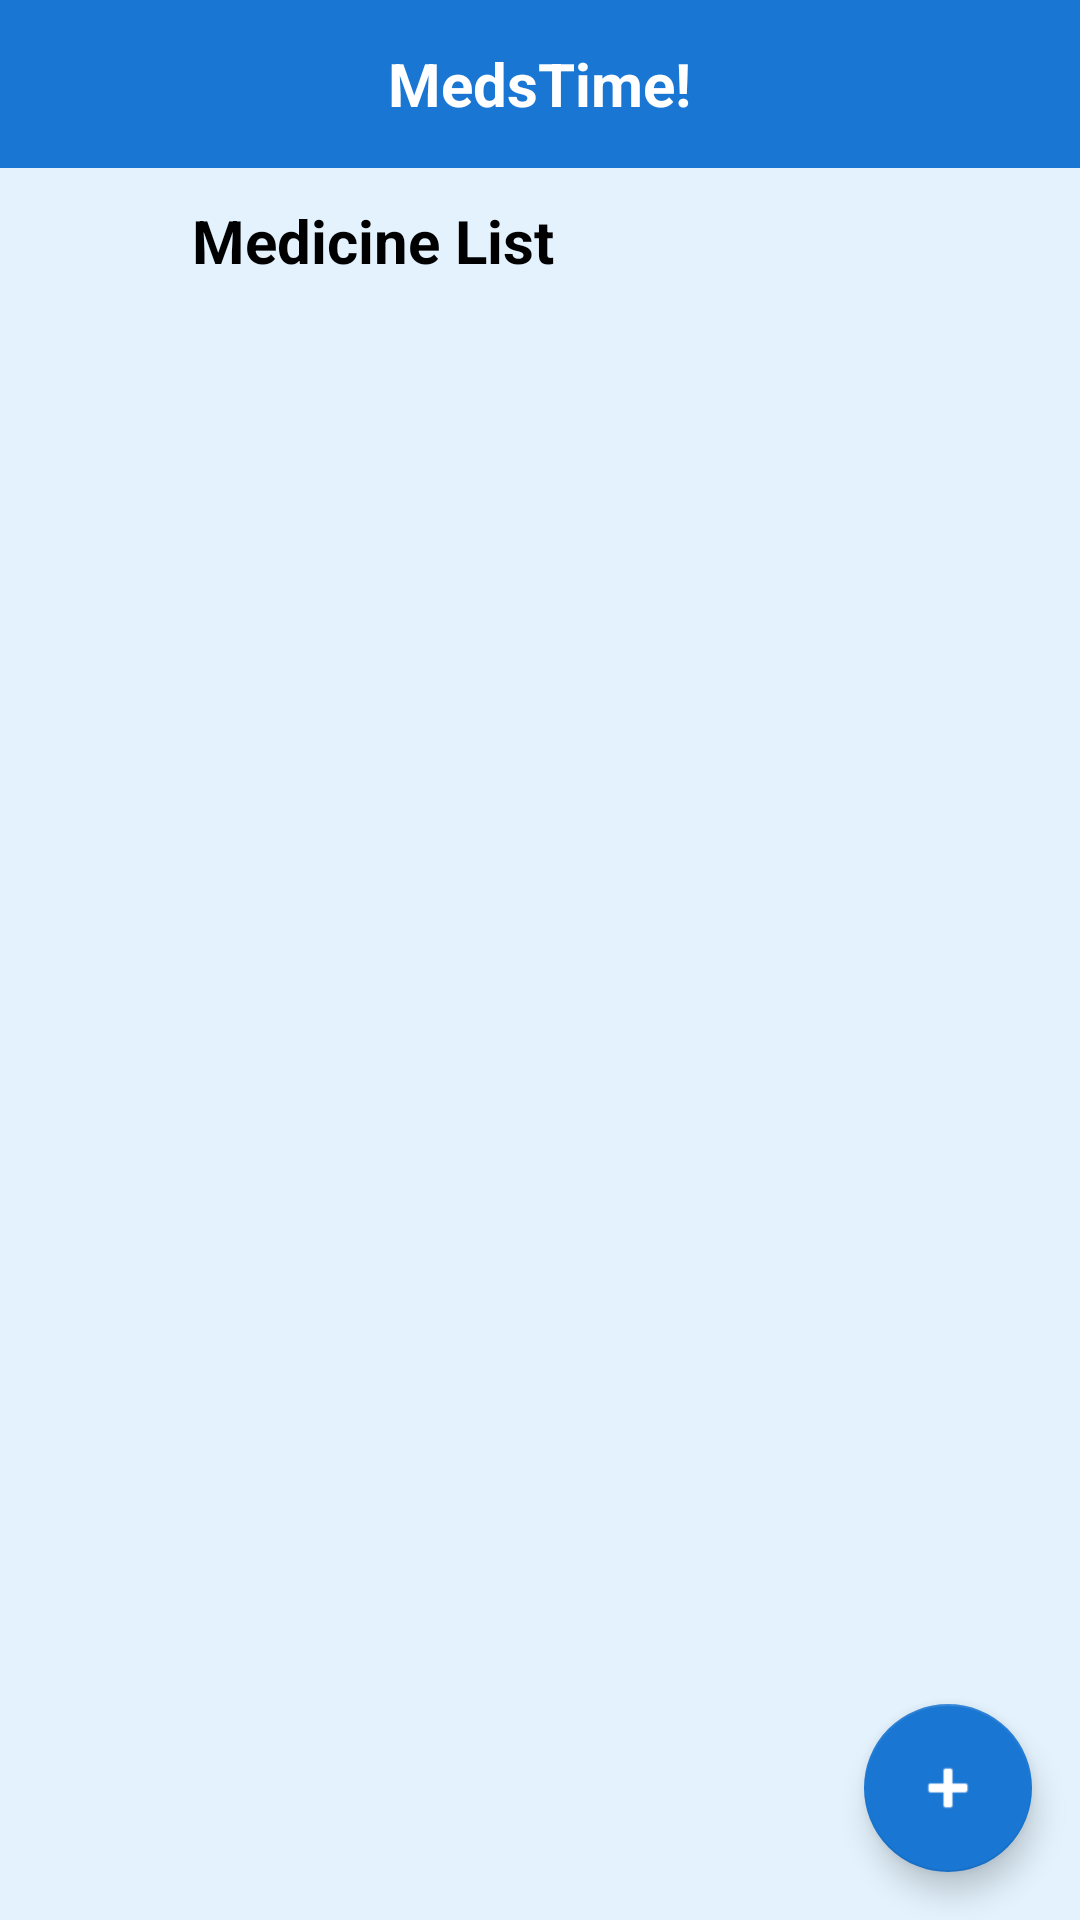

Screen size 1080*1920. Icon name, then its center in pixels as (x,y):
Add Medicine: (948,1788)
